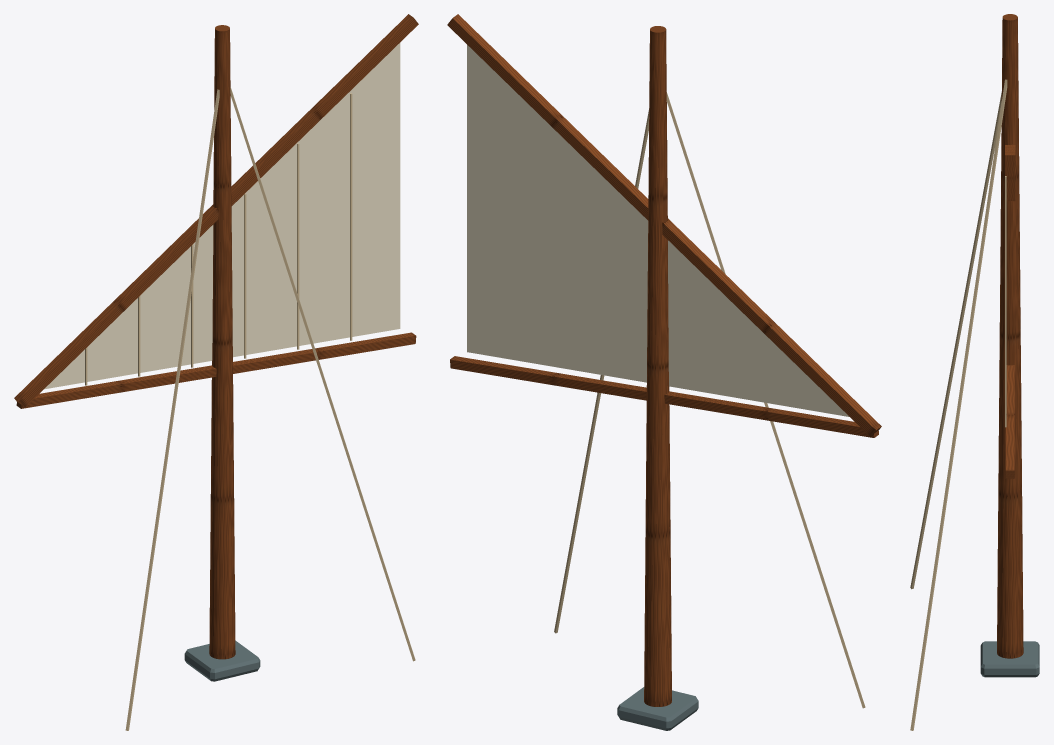
Rendered from ocean-raft-settlement-ocean-raft-settlement-sail-mast-818b4f3b__28907.glb.
The picture shows the model from 3 angles, left to right: view 1: azimuth 30°, elevation 25°; view 2: azimuth 150°, elevation 25°; view 3: azimuth 270°, elevation 25°; orthographic projection. The views are drawn at different scales.
Parts seen in each view (by area): view 1: canvas, wood, rope, iron; view 2: canvas, wood, rope, iron; view 3: wood, rope, iron.
Part boxes in pixels (<box>): canvas: <box>44,43,400,389</box>; wood: <box>14,14,418,659</box>; rope: <box>85,87,415,730</box>; iron: <box>184,640,260,681</box>; canvas: <box>467,45,849,416</box>; wood: <box>447,14,881,706</box>; rope: <box>554,92,865,708</box>; iron: <box>617,687,698,730</box>; wood: <box>997,14,1023,658</box>; rope: <box>910,79,1007,730</box>; iron: <box>980,641,1039,677</box>.
Bounding box in the file's own units: 3.34 × 5.1 × 0.9222.
Materials: 4 (1 with a texture image).
